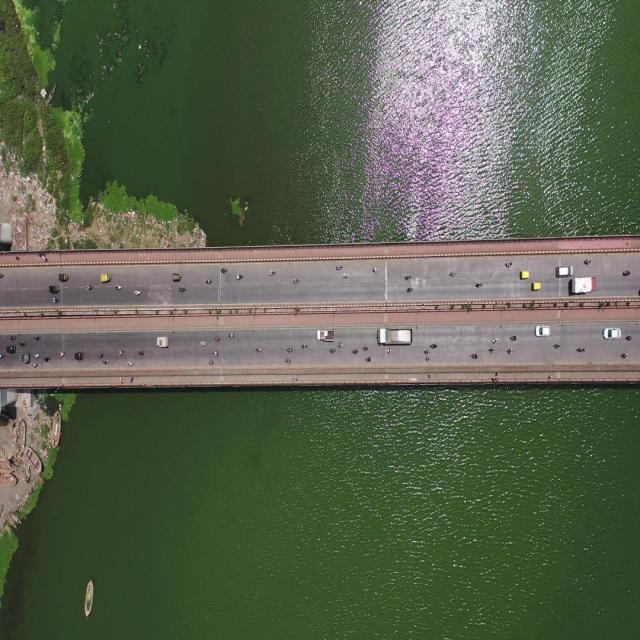3W: (99, 272, 114, 284), (519, 269, 531, 282), (19, 353, 31, 366), (47, 284, 61, 294), (57, 272, 69, 283), (5, 344, 16, 355), (531, 280, 542, 291), (74, 352, 84, 360), (173, 274, 183, 281)
Cars: (601, 324, 622, 340), (555, 264, 574, 277), (534, 324, 552, 337)
M2W: (509, 330, 519, 343), (177, 283, 187, 295), (491, 335, 501, 346), (406, 286, 415, 298), (132, 287, 142, 297), (384, 348, 394, 358), (333, 262, 344, 271), (117, 346, 125, 358), (18, 340, 28, 349), (137, 348, 146, 358), (51, 295, 60, 305), (210, 347, 219, 357), (448, 269, 457, 279), (505, 346, 514, 356), (553, 342, 563, 351), (577, 345, 586, 355), (622, 268, 631, 278), (86, 283, 95, 292), (220, 266, 229, 275), (268, 268, 277, 277), (286, 345, 295, 354), (487, 345, 496, 354), (620, 352, 629, 361), (283, 357, 291, 367), (236, 272, 245, 280), (254, 345, 262, 354), (363, 343, 371, 352), (342, 272, 350, 281), (430, 341, 438, 350), (504, 261, 513, 269), (32, 362, 40, 371), (33, 336, 43, 343), (97, 349, 104, 359), (199, 338, 206, 348), (352, 347, 359, 357), (421, 349, 431, 356), (423, 355, 433, 362), (473, 281, 483, 288), (583, 260, 593, 267), (625, 335, 635, 342), (34, 352, 41, 361), (59, 350, 66, 359), (102, 357, 109, 366), (127, 360, 134, 369), (227, 332, 236, 339), (294, 278, 301, 287), (329, 345, 336, 354), (337, 341, 344, 350), (366, 355, 373, 364), (470, 353, 480, 359), (43, 354, 50, 362), (205, 279, 213, 286), (214, 335, 222, 342), (208, 359, 216, 366), (115, 284, 122, 291), (302, 342, 309, 349), (373, 267, 380, 274), (405, 275, 412, 282), (10, 334, 17, 340)
Truck: (375, 327, 414, 346), (568, 276, 596, 298), (151, 331, 171, 353), (316, 327, 335, 343)
